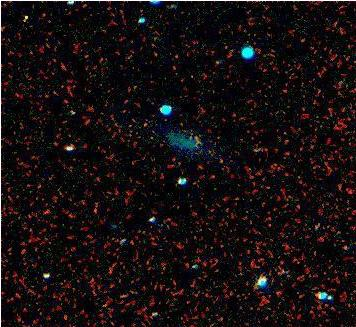star: (12, 4, 42, 34)
